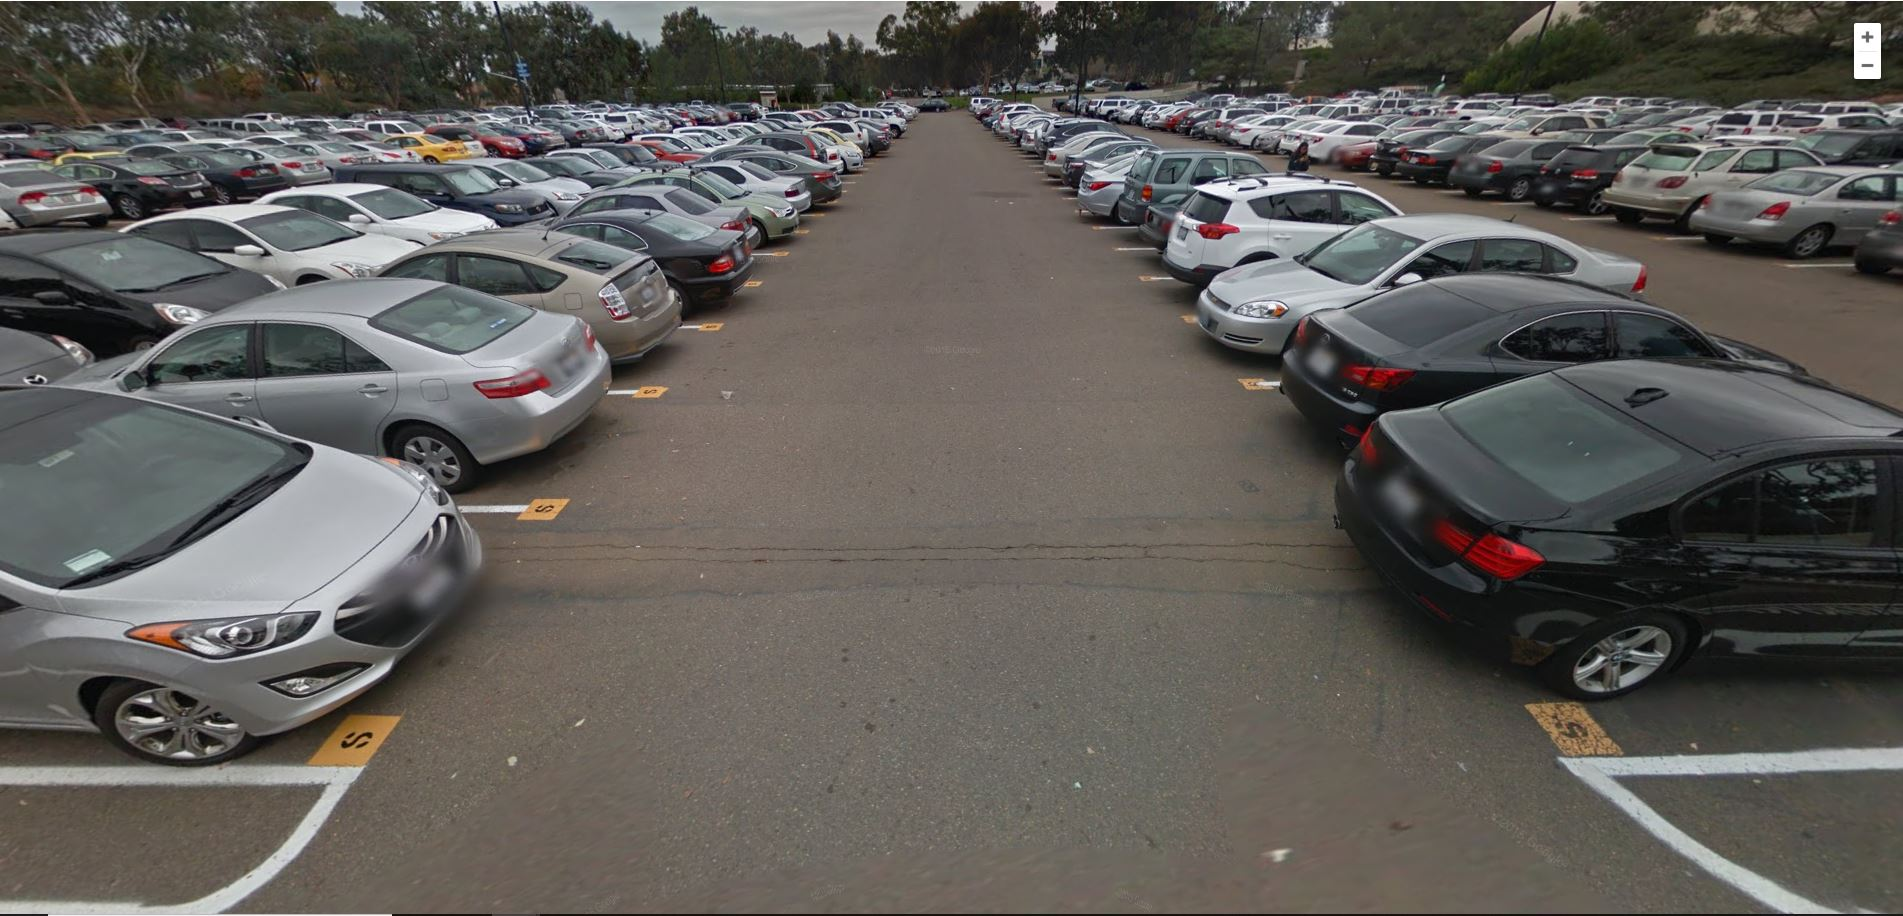car: (1322, 369, 1903, 677), (44, 268, 619, 477), (1282, 272, 1810, 440), (1195, 216, 1666, 372), (368, 221, 686, 398), (1174, 180, 1415, 281), (500, 207, 756, 303), (1600, 132, 1836, 229), (1698, 150, 1903, 248), (331, 157, 534, 224), (1120, 148, 1280, 231), (1519, 125, 1678, 206), (580, 178, 760, 250), (627, 175, 801, 248), (1443, 130, 1585, 207), (79, 155, 215, 221), (1, 159, 109, 237), (451, 159, 604, 210), (161, 140, 282, 201), (1084, 165, 1203, 222), (1408, 127, 1515, 186), (237, 138, 334, 193), (1276, 108, 1375, 160), (420, 126, 527, 172), (295, 129, 376, 173), (334, 127, 422, 164), (382, 136, 470, 163)
